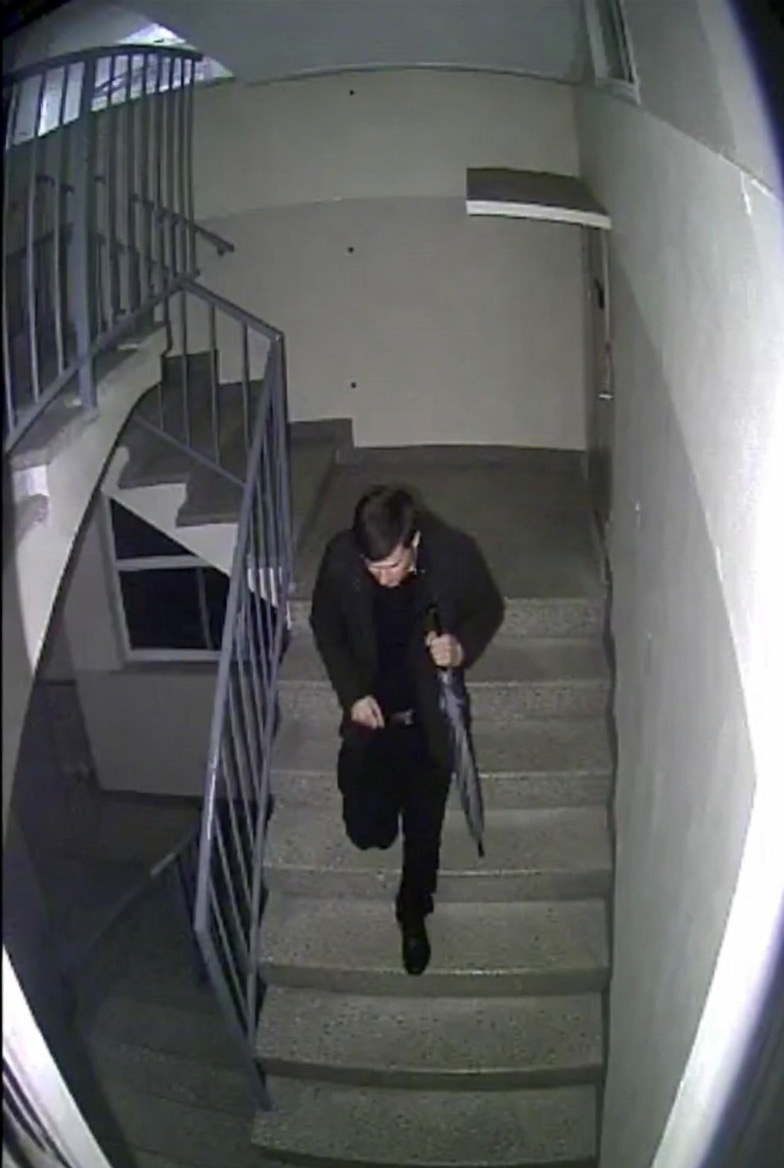person: (311, 490, 495, 965)
umbrella: (442, 652, 505, 867)
